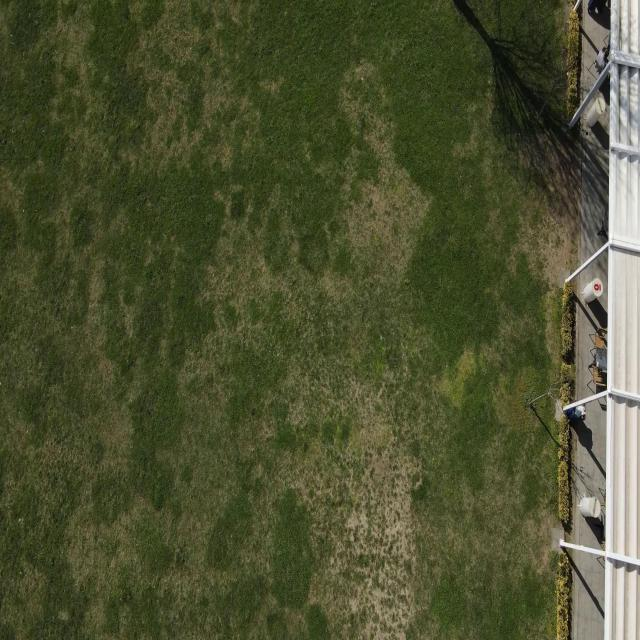p3rson: (596, 50, 609, 69)
